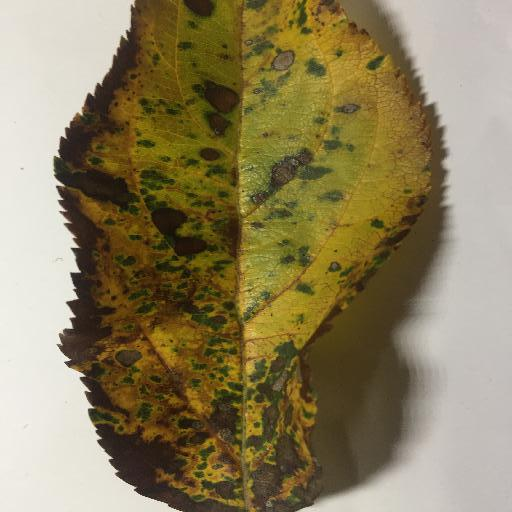Brown_Spot: (29, 1, 457, 512)
